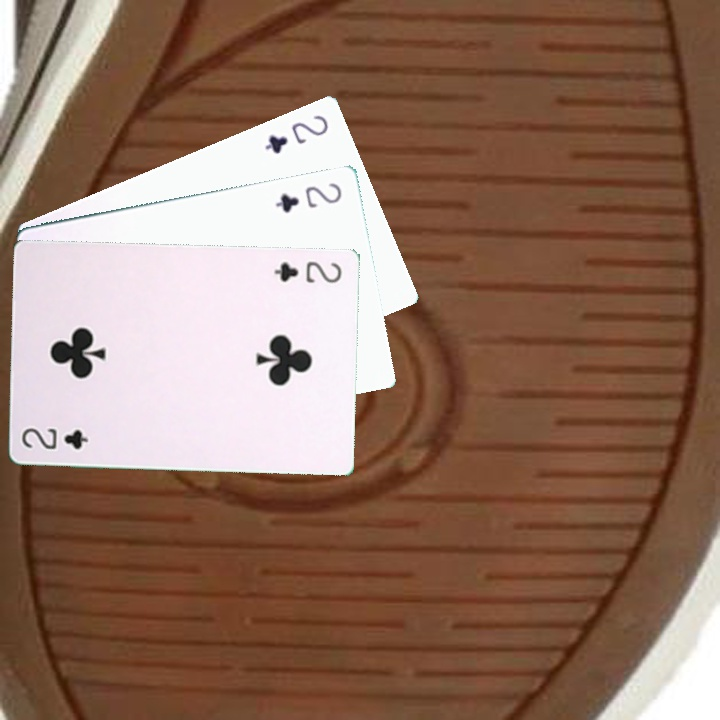2c: (260, 111, 331, 157), (271, 178, 344, 216), (270, 257, 344, 286), (18, 424, 91, 452)
